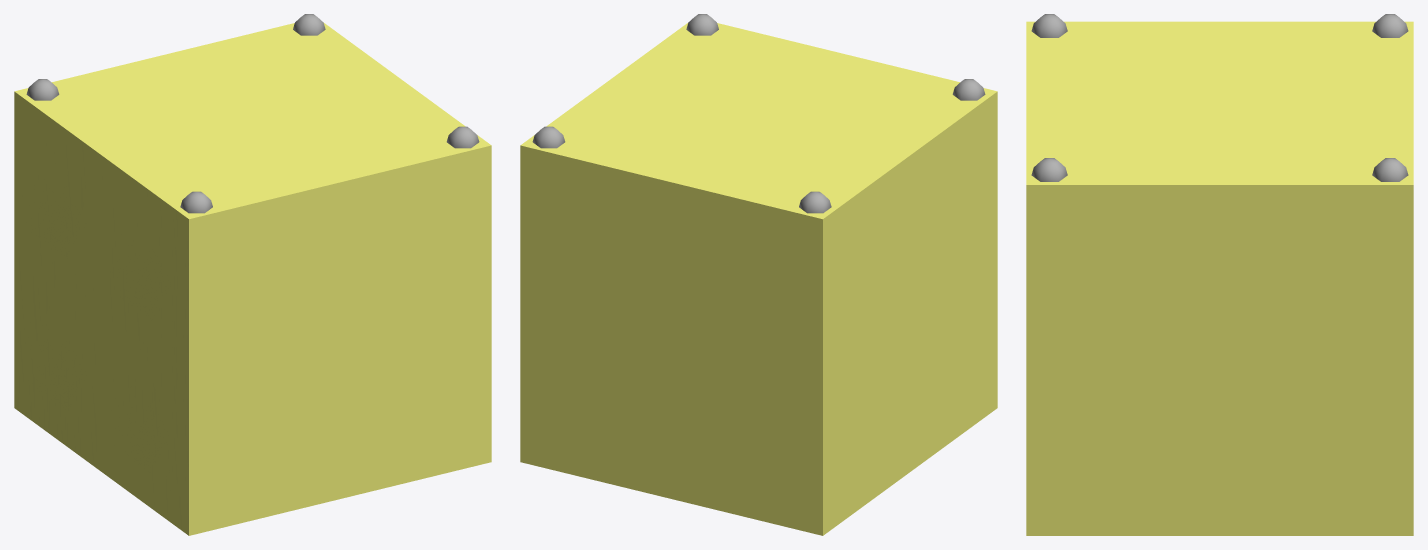
Rendered from rainbow_yellow.fbx.
3 views of the same model, side by side, from view 1: azimuth 30°, elevation 25°; view 2: azimuth 150°, elevation 25°; view 3: azimuth 270°, elevation 25° (orthographic). The views are drawn at different scales.
Parts seen in each view (by area): view 1: Mesh; view 2: Mesh; view 3: Mesh.
Boxes of the visible parts, x1,y1,x2,y2 form: Mesh: [14, 14, 491, 535]; Mesh: [520, 14, 997, 535]; Mesh: [1026, 14, 1413, 535].
Size of the model in its own units: 1 by 1.05 by 1.
